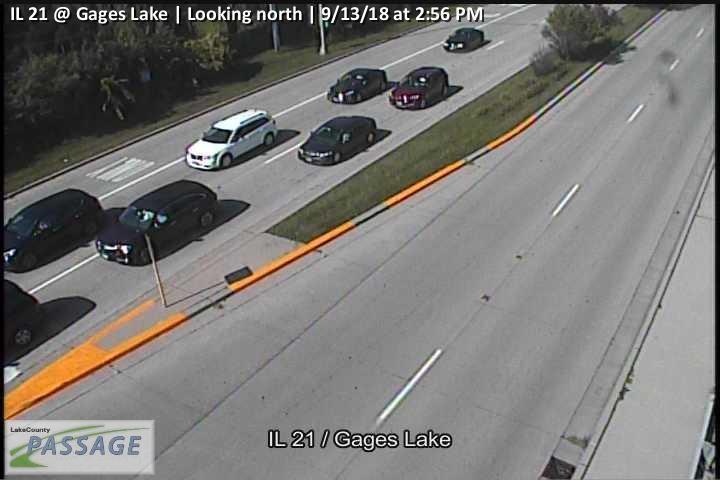SUV: (97, 180, 220, 267), (1, 189, 105, 273), (186, 109, 279, 170)
Sedan: (297, 116, 377, 165), (390, 66, 449, 111), (327, 69, 387, 104), (444, 26, 485, 52)
